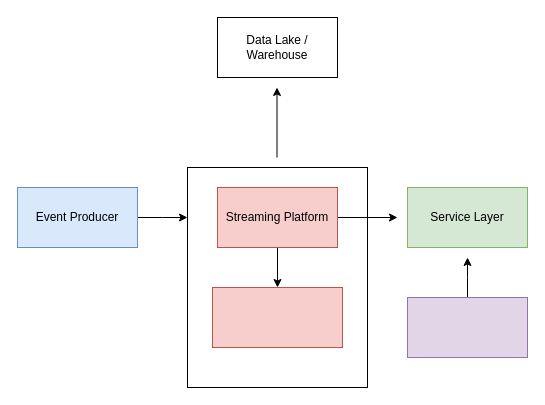
Image size: 545x405. Some labels were removed from this diagram. Here are the shapes that lost their labels. From the top down, the centre of each, then its label:
At [277,317]: "Streaming Processor/ Streaming Databases".
At [467,327]: "BE/FE Applications".
